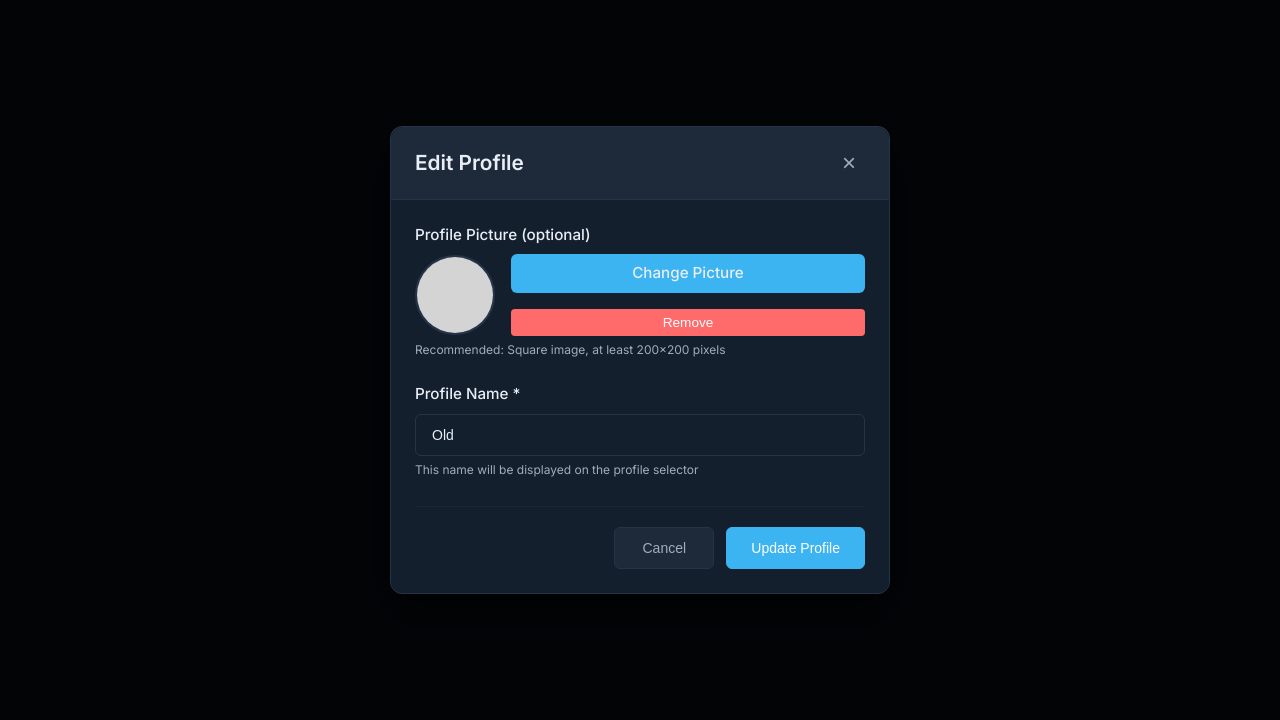
Test: AddProfileModal: edición › quita la foto con el botón Remove
Step 1. Click the button "Remove" → (688, 323), box [511,309,865,336]
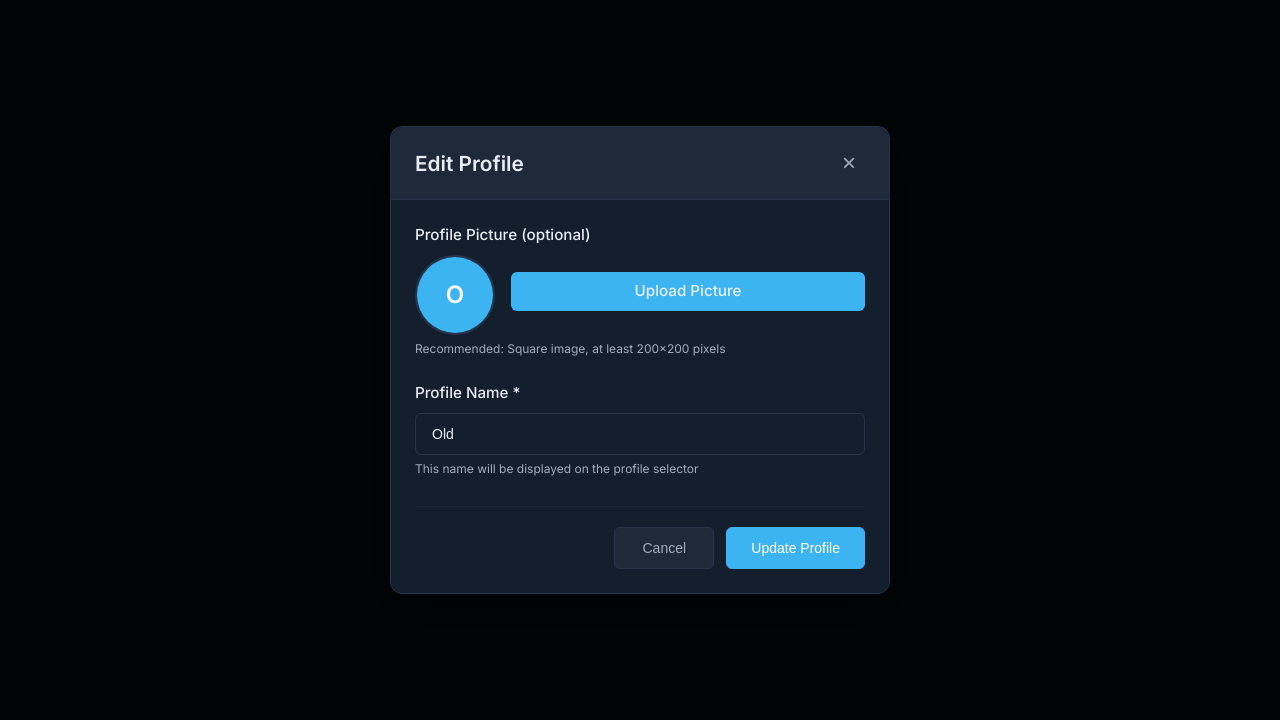
Expected: the picture is gone
Expected: the text "O" is shown, [417,257,493,333]
